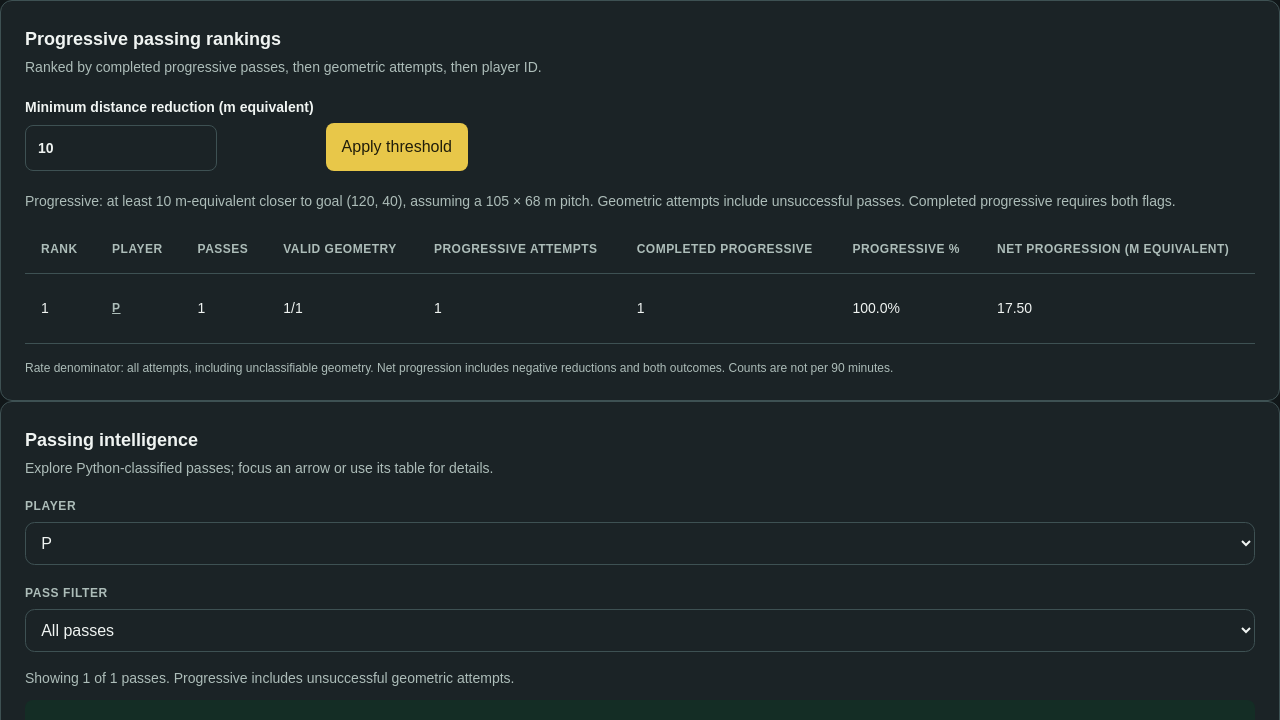
uses server definition for rankings and requests matching pass thresholds
Replace the text in the number field labelled "Minimum distance reduction (m equivalent)" with "20" at (121, 148), box x1=25 y1=125 x2=217 y2=171
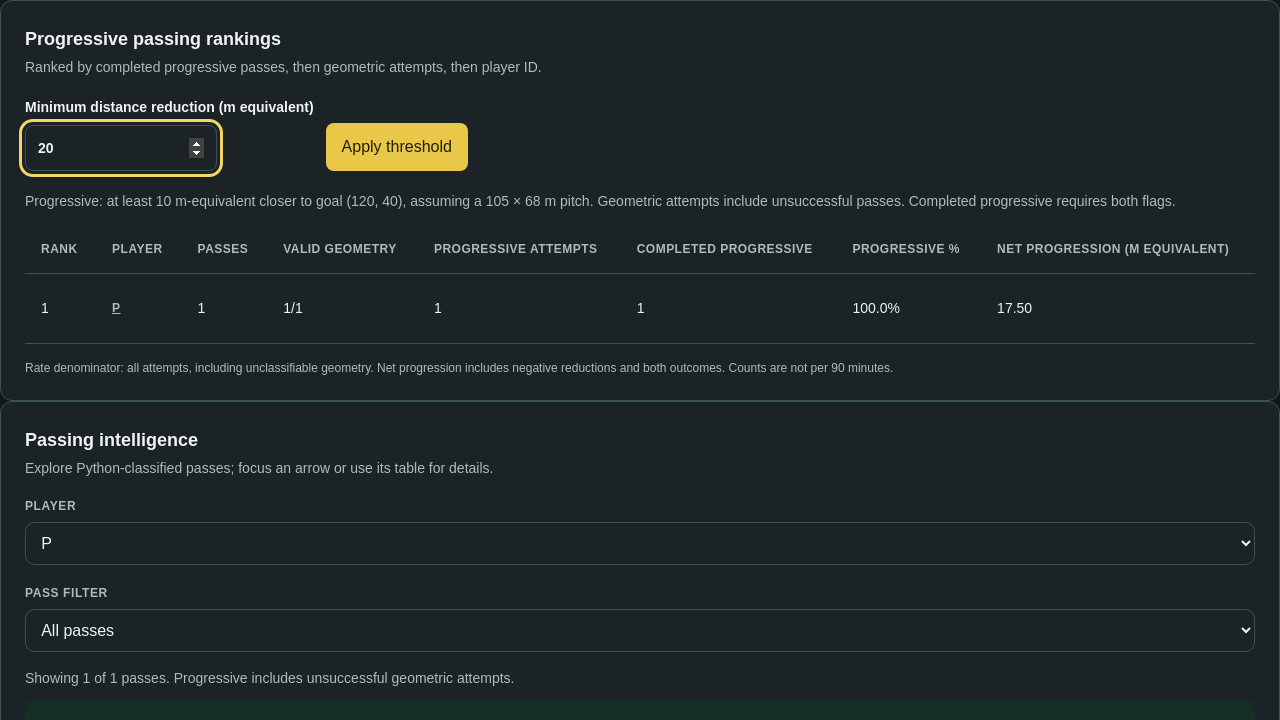
Click the button "Apply threshold" at (397, 147), box x1=326 y1=123 x2=468 y2=171
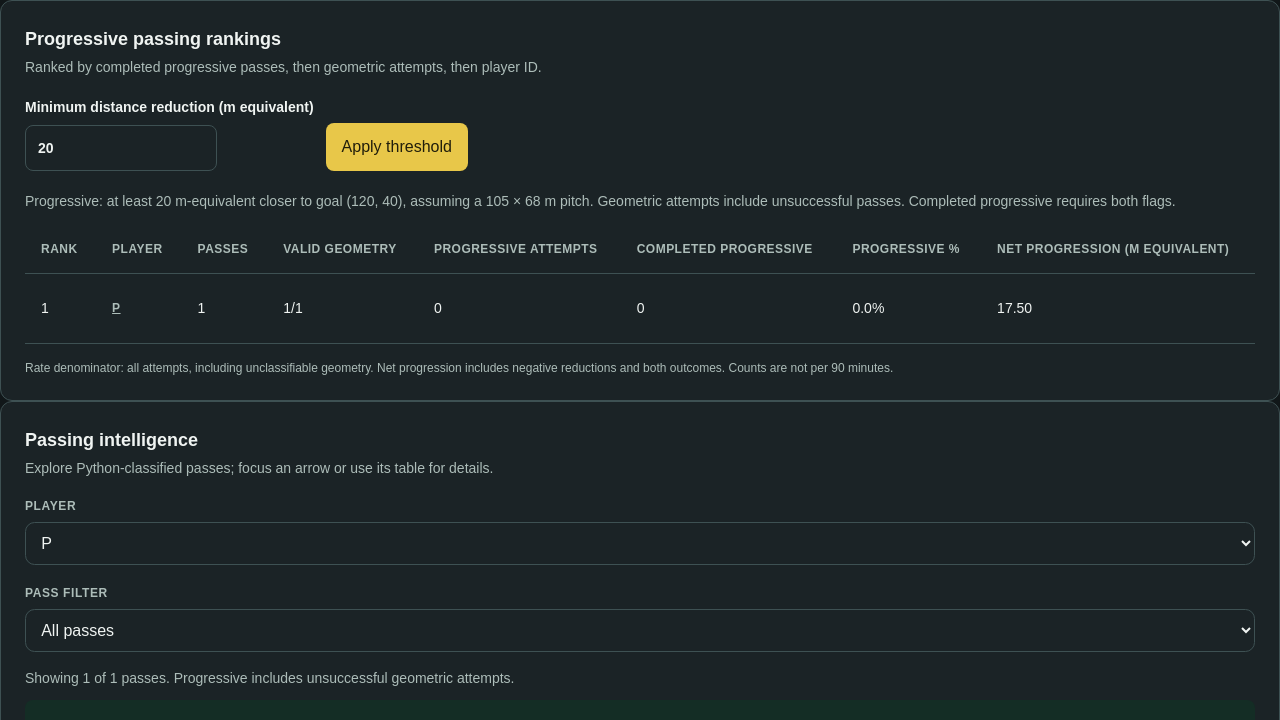
Check: the text "at least 20 m-equivalent" is shown, box x1=25 y1=191 x2=1255 y2=211
Select "Progressive passes (all outcomes)" in the dropdown labelled "Pass filter" at (640, 631), box x1=25 y1=609 x2=1255 y2=652
(page scrolled)
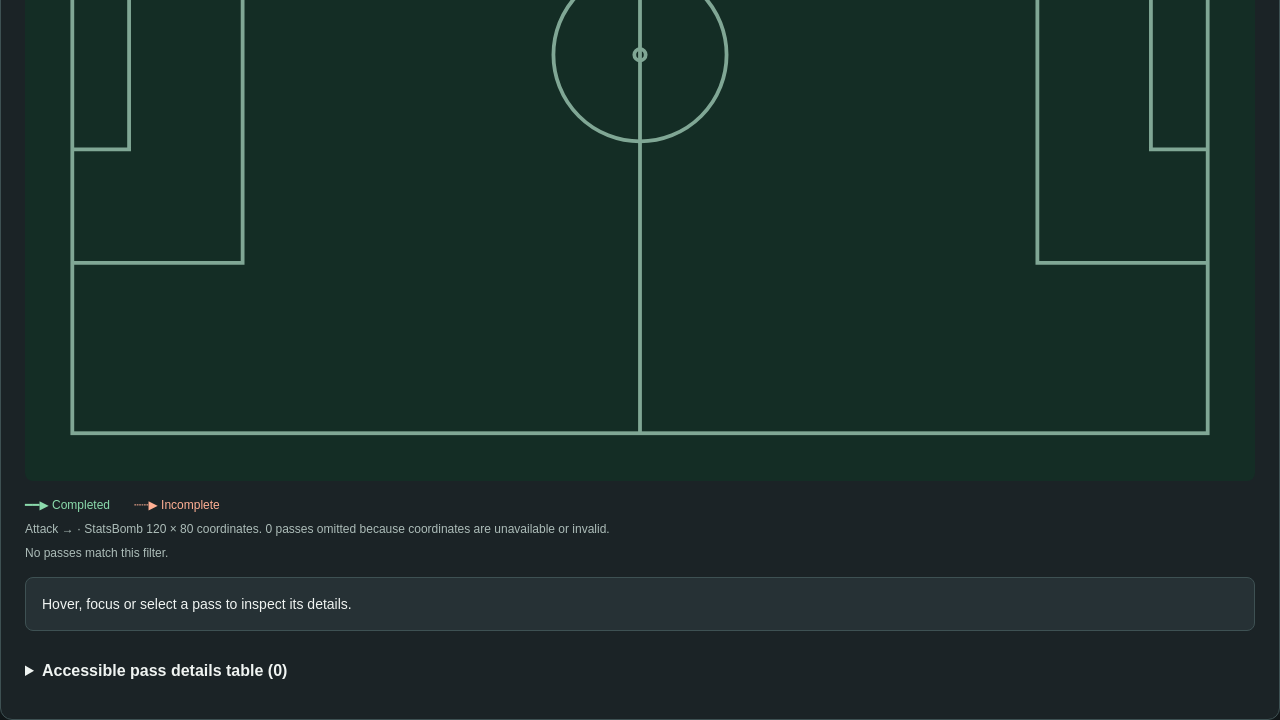
Check: the text "No passes match this filter." is shown, box x1=25 y1=546 x2=168 y2=560
